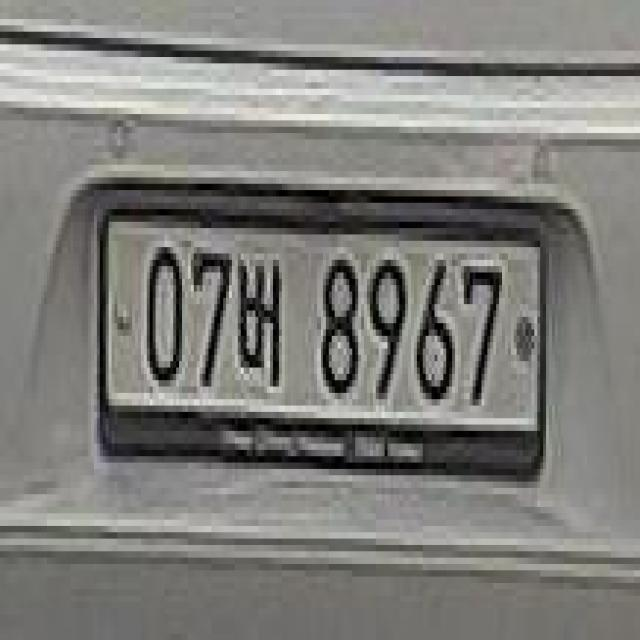illegal_plate: (92, 192, 552, 495)
